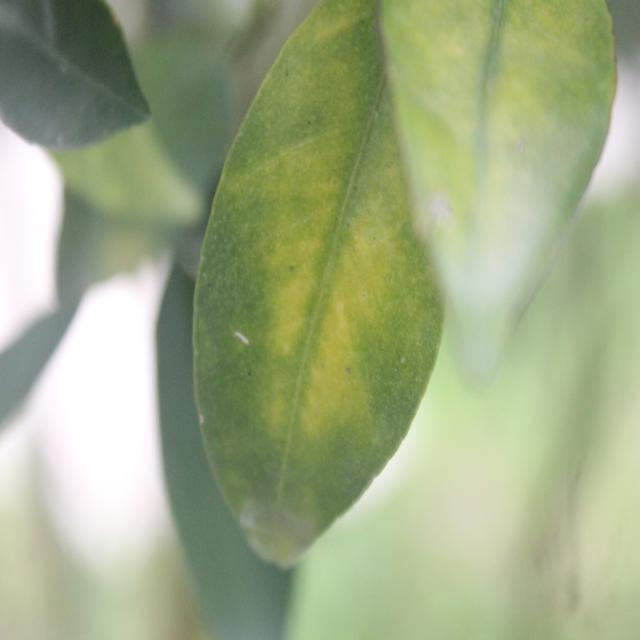blackspot: (206, 21, 391, 532)
